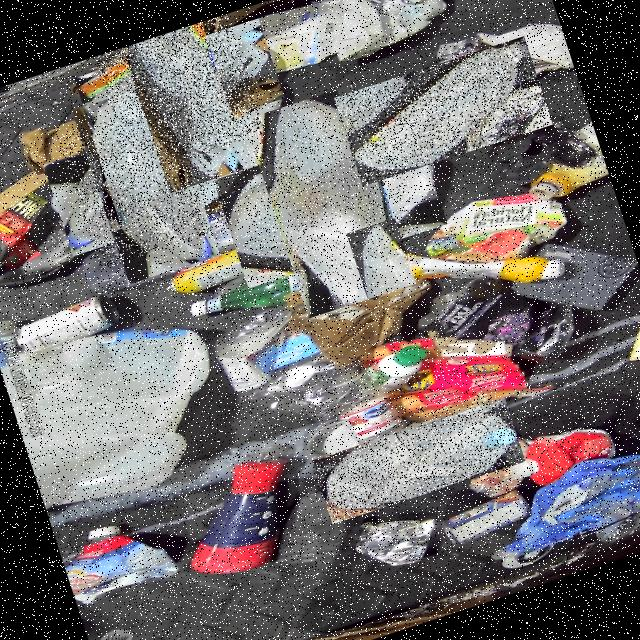milk-jug: (228, 100, 431, 304), (333, 36, 552, 186), (57, 94, 233, 270), (94, 13, 266, 175), (311, 398, 525, 524)
